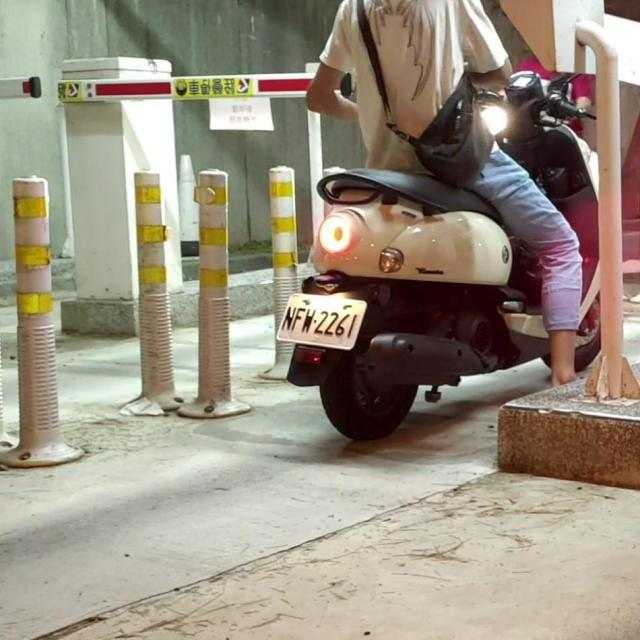W: (273, 290, 368, 350)
